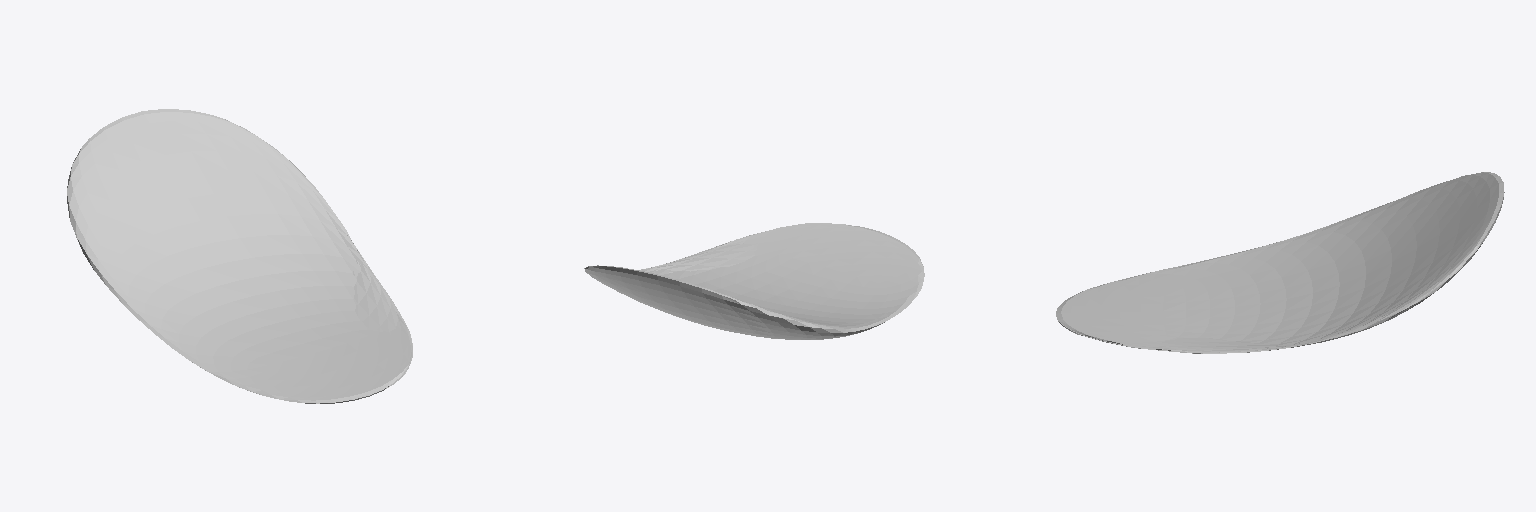
File: petal.obj
The picture shows the model from 3 angles: view 1: azimuth 30°, elevation 25°; view 2: azimuth 150°, elevation 25°; view 3: azimuth 270°, elevation 25°; orthographic projection.
Visible parts, largest first — view 1: fl; view 2: fl; view 3: fl.
Boxes of the visible parts, <box> form: fl: <box>67,109,412,403</box>; fl: <box>584,223,924,339</box>; fl: <box>1056,172,1504,353</box>.
Bounding box in the file's own units: 1.87 × 0.9447 × 3.05.